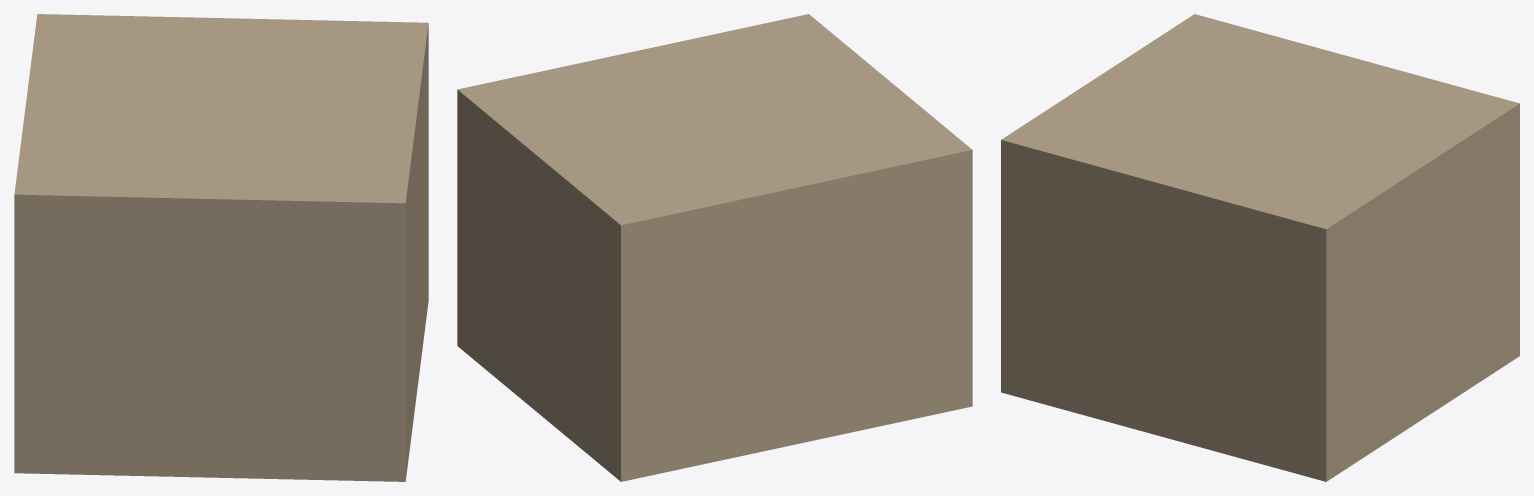
File: bld_101289718.dae
3 views of the same model, side by side, from view 1: azimuth 30°, elevation 25°; view 2: azimuth 150°, elevation 25°; view 3: azimuth 270°, elevation 25° (orthographic). The views are drawn at different scales.
Parts seen in each view (by area): view 1: bld_101289718; view 2: bld_101289718; view 3: bld_101289718.
Part boxes in pixels (x1=…): bld_101289718: x1=14, y1=14, x2=428, y2=481; bld_101289718: x1=457, y1=14, x2=972, y2=481; bld_101289718: x1=1001, y1=14, x2=1519, y2=481.
Bounding box in the file's own units: 14.63 × 14.89 × 8.
